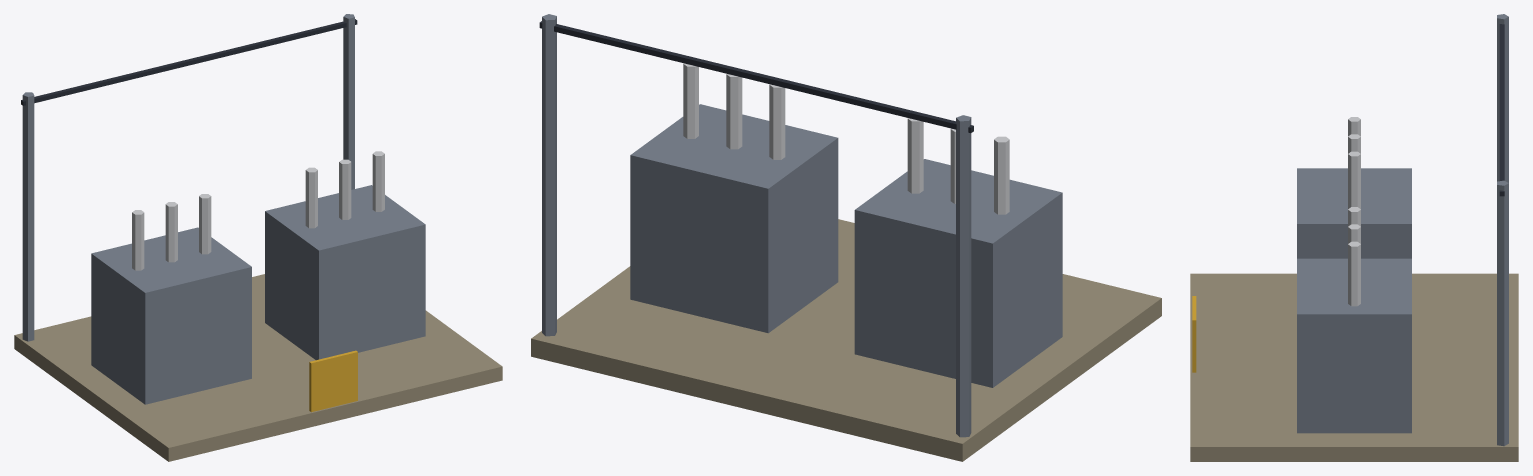
Rendered from substation.glb.
3 views of the same model, side by side, from view 1: azimuth 30°, elevation 25°; view 2: azimuth 150°, elevation 25°; view 3: azimuth 270°, elevation 25° (orthographic). The views are drawn at different scales.
Parts seen in each view (by area): view 1: substation; view 2: substation; view 3: substation.
Part boxes in pixels (bbox=[...]): substation: bbox=[14, 14, 502, 461]; substation: bbox=[531, 14, 1161, 461]; substation: bbox=[1190, 14, 1518, 461].
Bounding box in the file's own units: 5 × 3.7 × 4.
